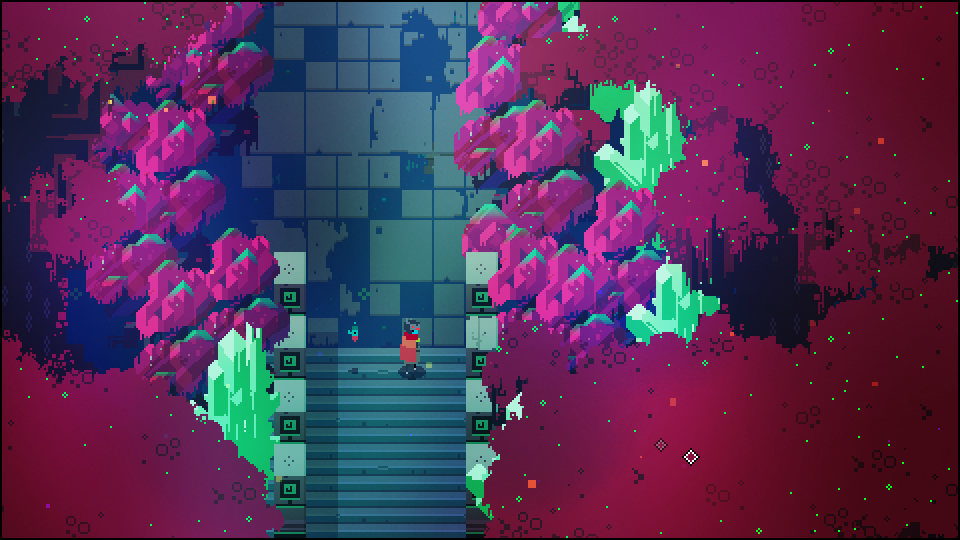player: (398, 317, 423, 376)
